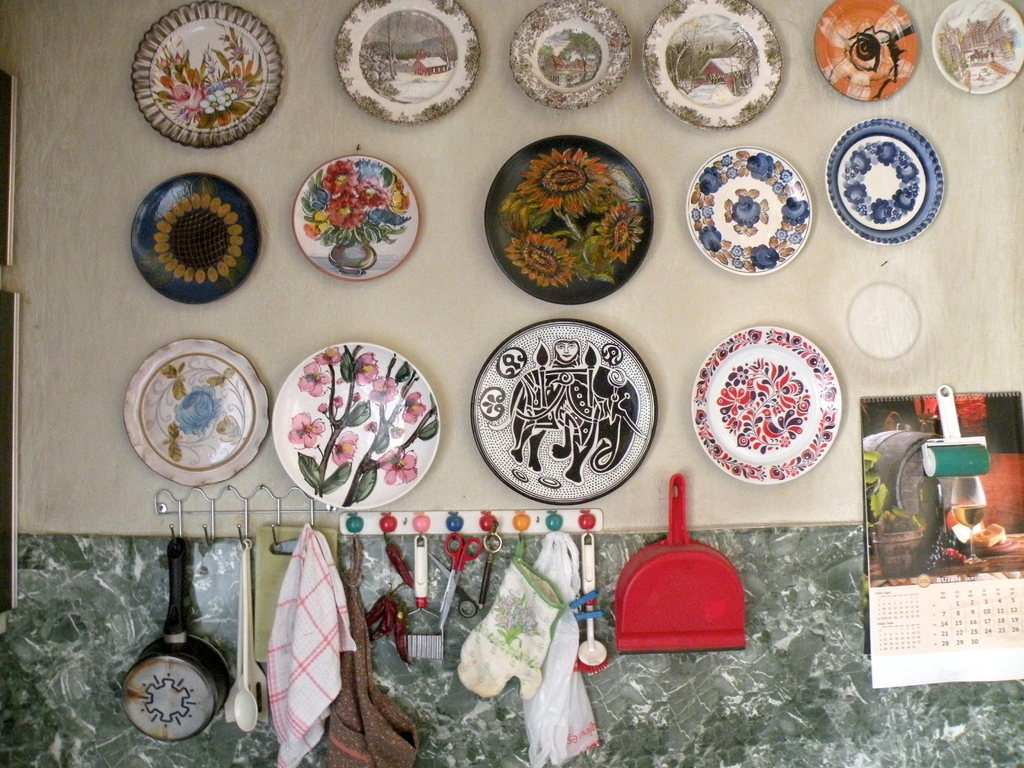plate: (472, 318, 656, 508), (483, 133, 656, 307), (689, 325, 842, 484), (132, 173, 261, 305), (685, 147, 813, 275), (292, 154, 417, 283), (824, 118, 947, 245)
